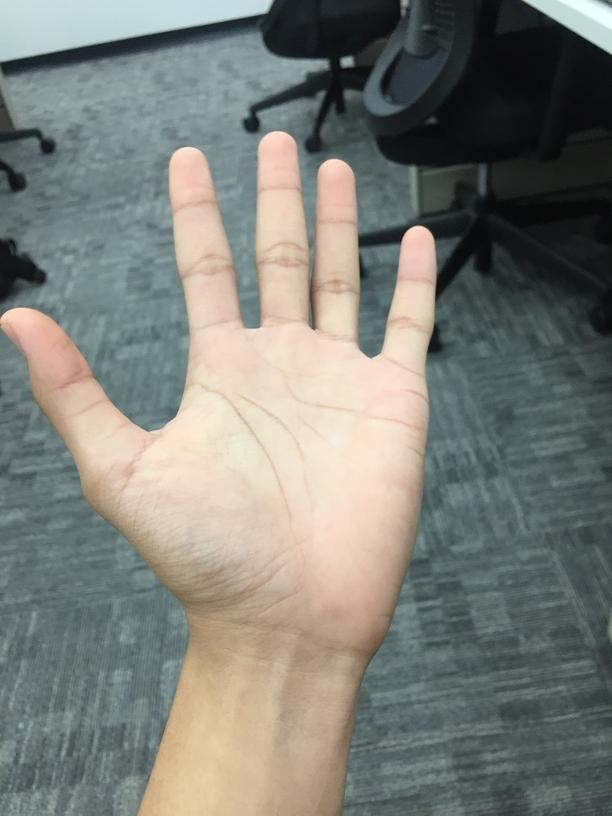hand: (5, 123, 438, 662)
